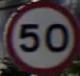Speed limit: (5, 3, 74, 67)
